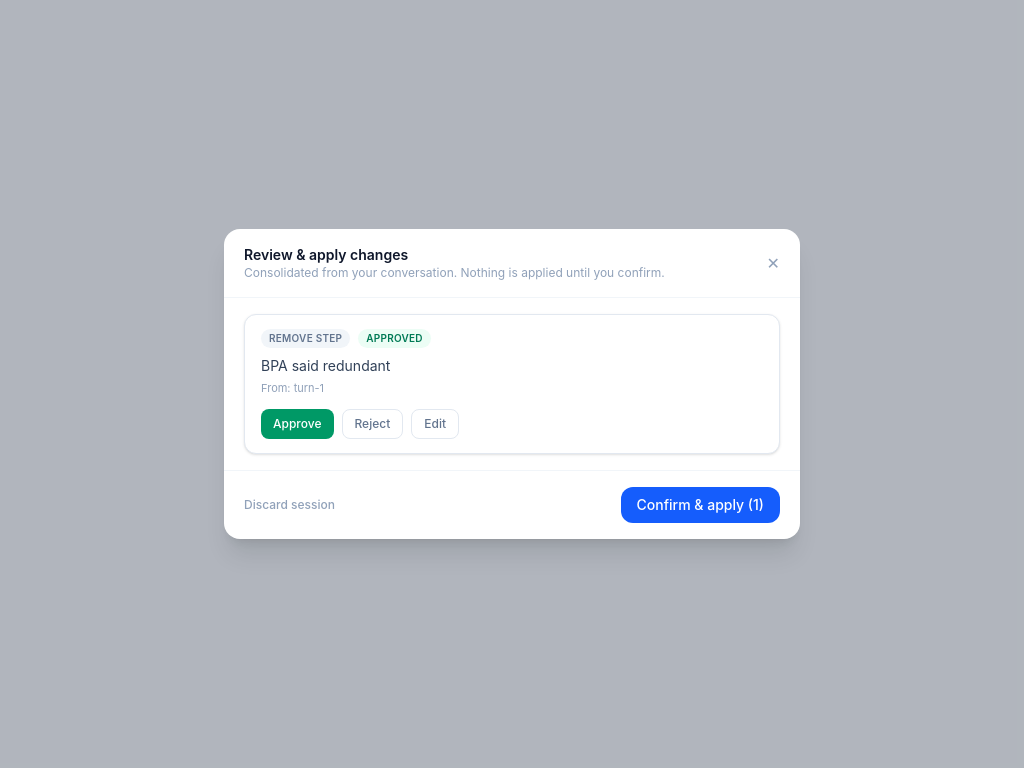
Test: ReviewSessionPanel › shows an error and flags the failing item if confirm fails
Click the button with test id "confirm-review-session" at (700, 505), box [620,487,780,523]
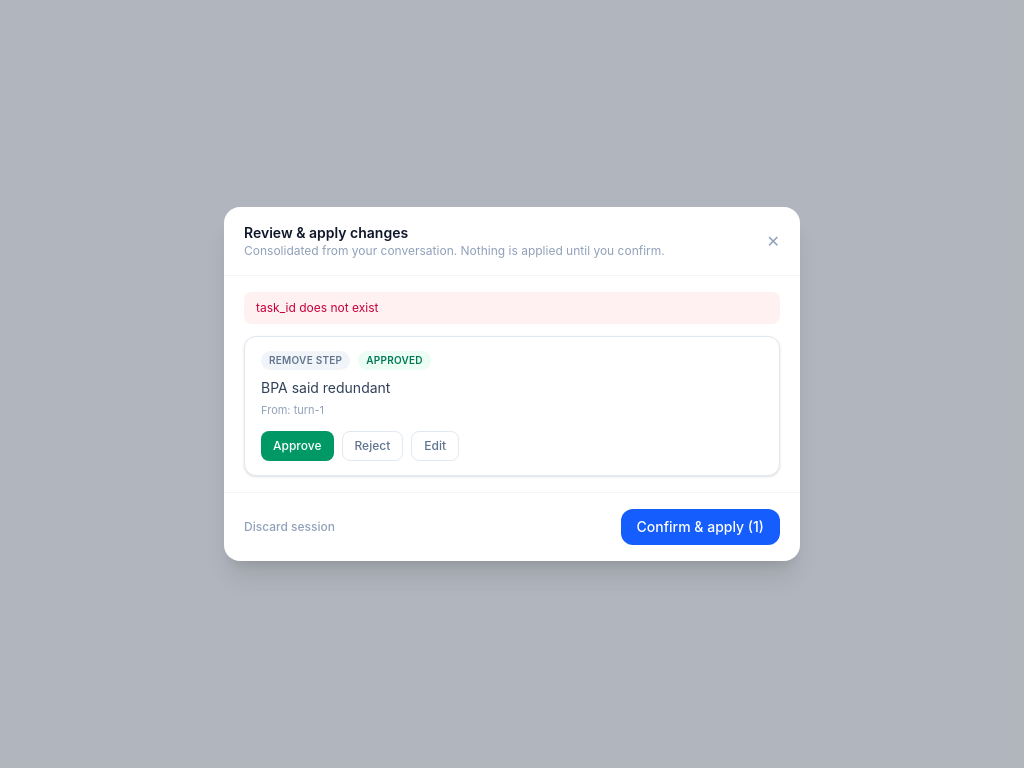
Expected: the text "task_id does not exist" is shown, [244,292,780,324]
